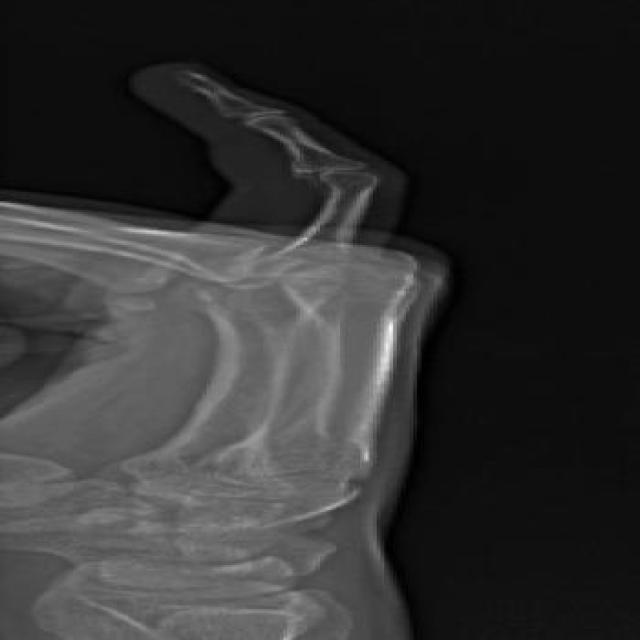fracture: (262, 163, 396, 183)
